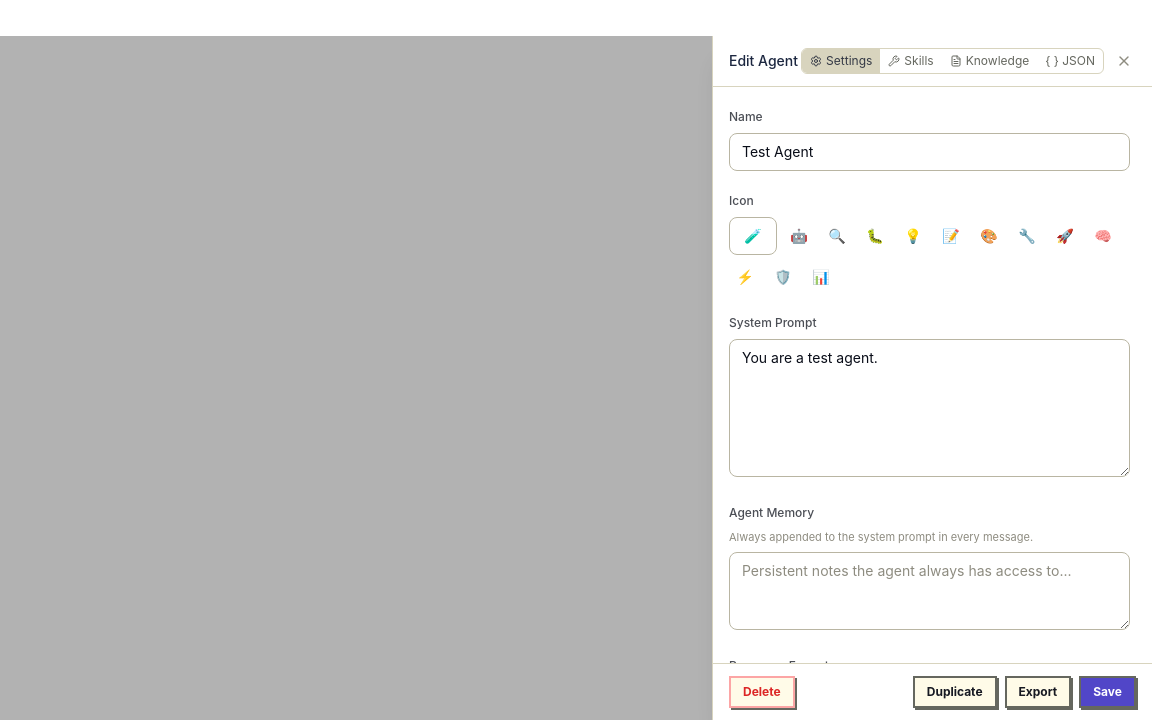
Test: AgentPanel — Skills tab › ap-skills-5: trust tier dropdown shown for assigned server with tools
Click the button "Skills".
click(911, 61)  # box [880,49,942,73]
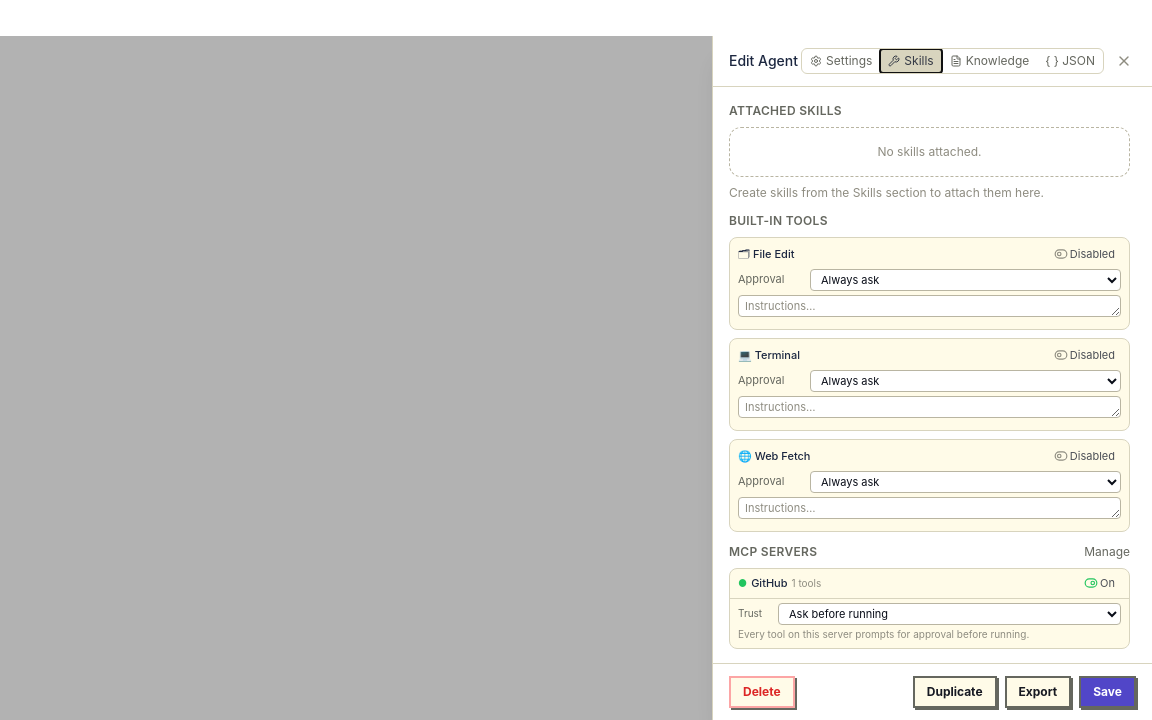
Check: the dropdown named "Trust tier for GitHub" shows "Ask before running", box [778,602,1121,624]
